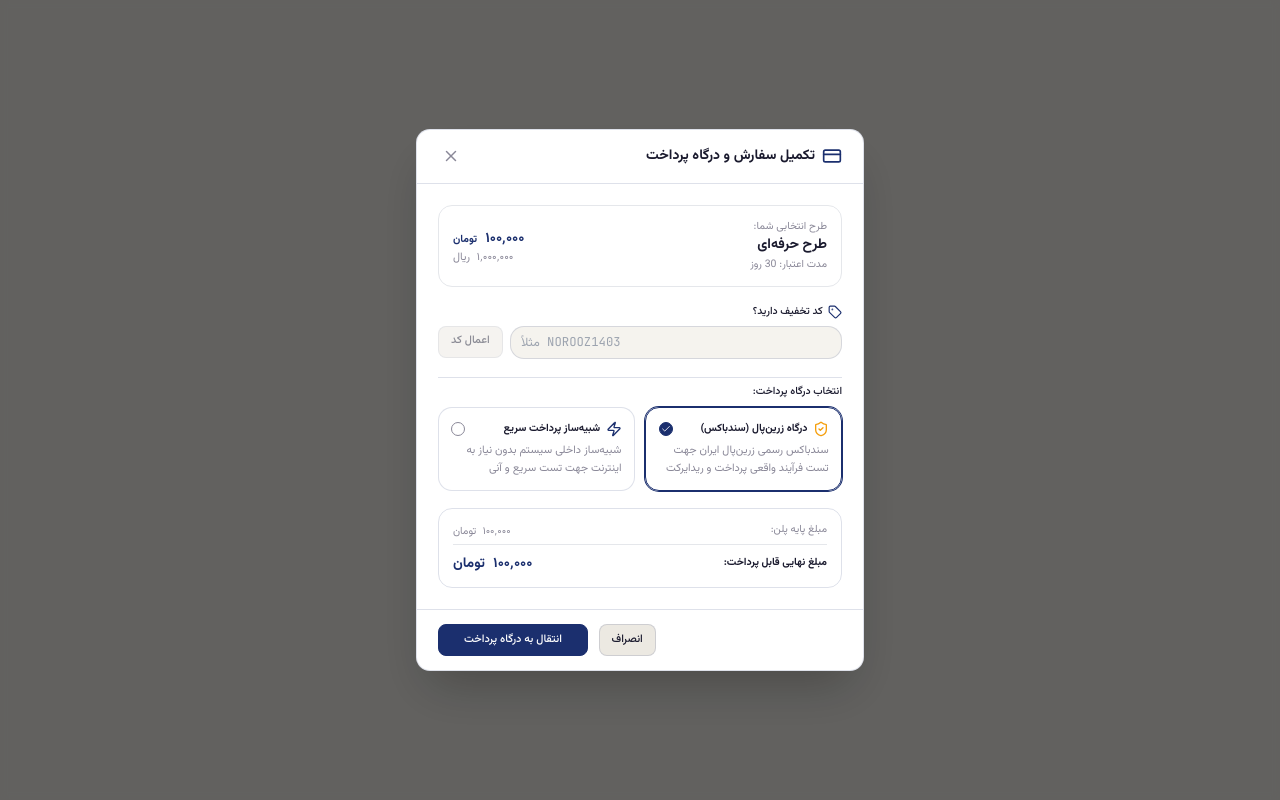
Test: Coupons & Gateway Selection Flow › validates and applies coupon, updating final price
Step 1. Type "off20" into the field with placeholder "مثلاً NOROOZ1403" → (676, 342), box x1=510 y1=326 x2=842 y2=359
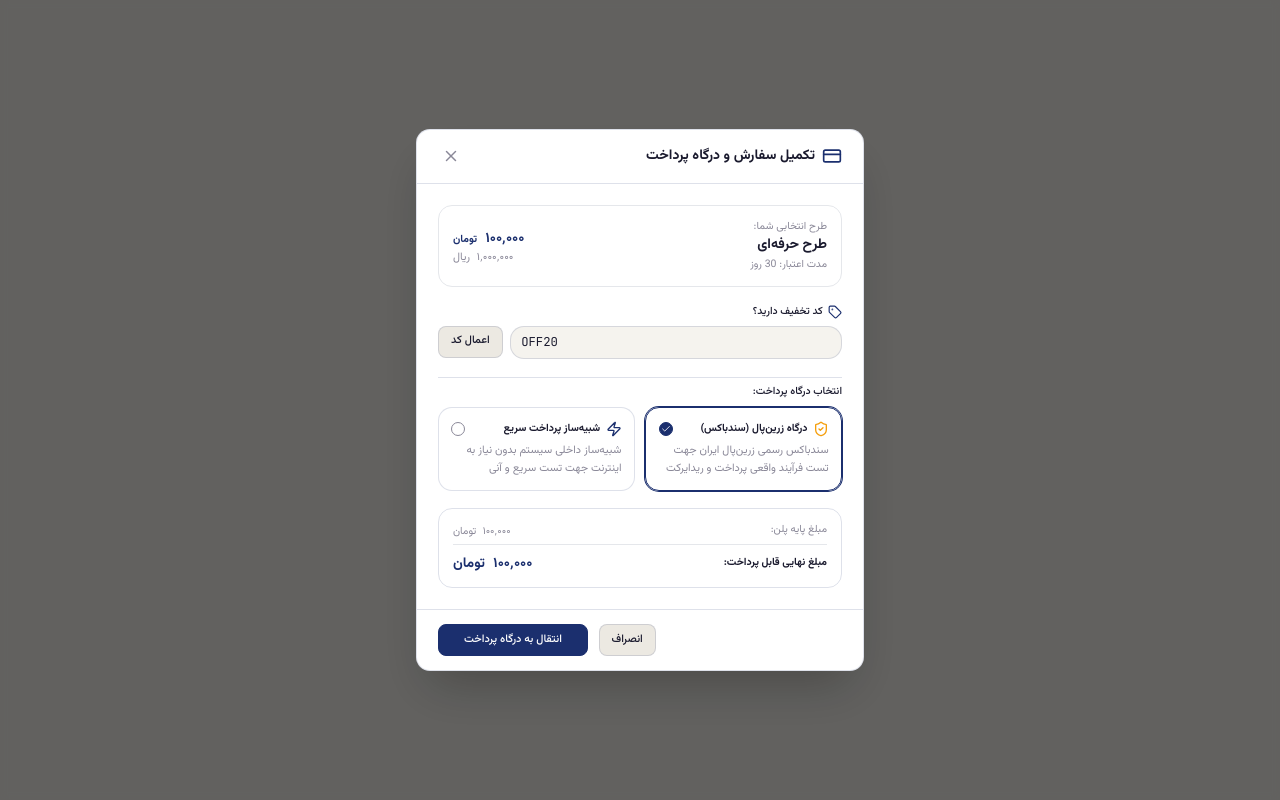
Step 2. Click the button "اعمال کد" → (470, 342), box x1=438 y1=326 x2=503 y2=358
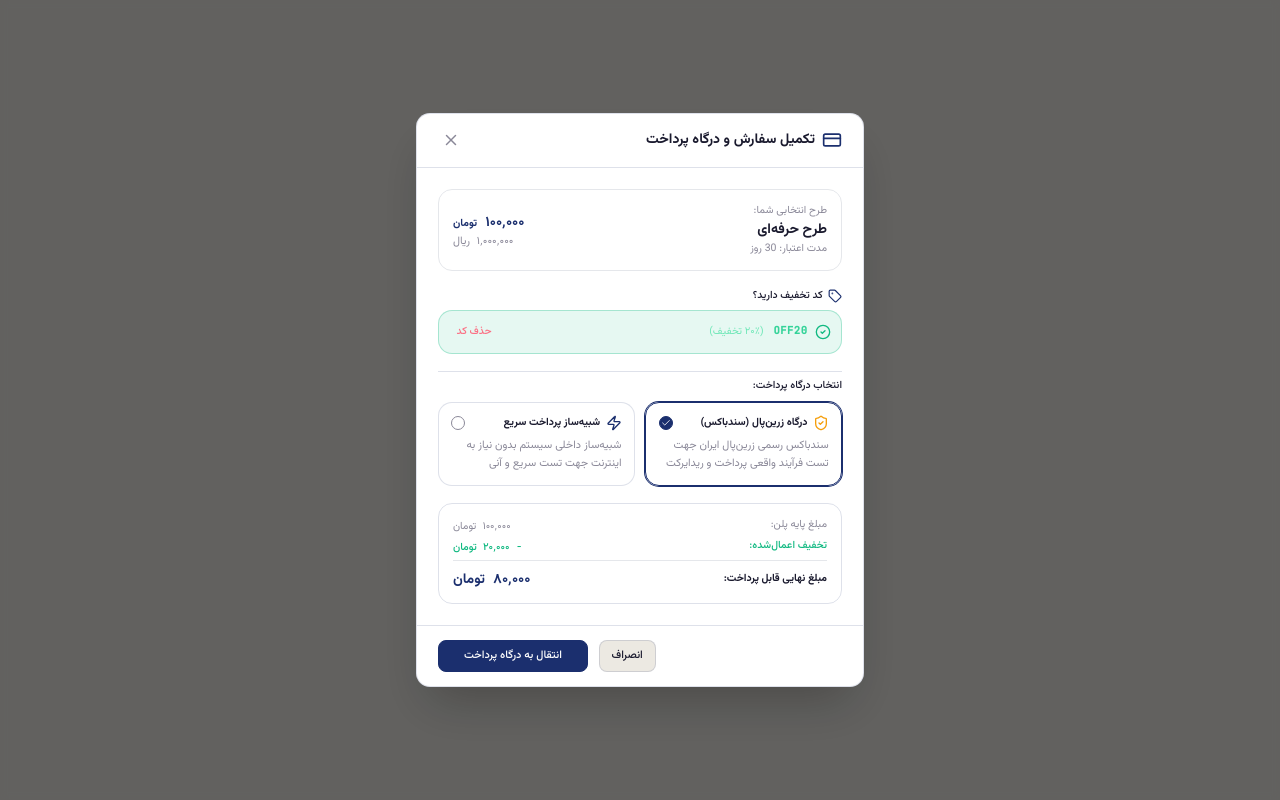
expect the text "OFF20" is shown: met, box x1=773 y1=323 x2=808 y2=337
expect the text "۲۰٪ تخفیف" is shown: met, box x1=709 y1=323 x2=766 y2=340
expect the text "۸۰٬۰۰۰ تومان" is shown: met, box x1=453 y1=569 x2=530 y2=587
